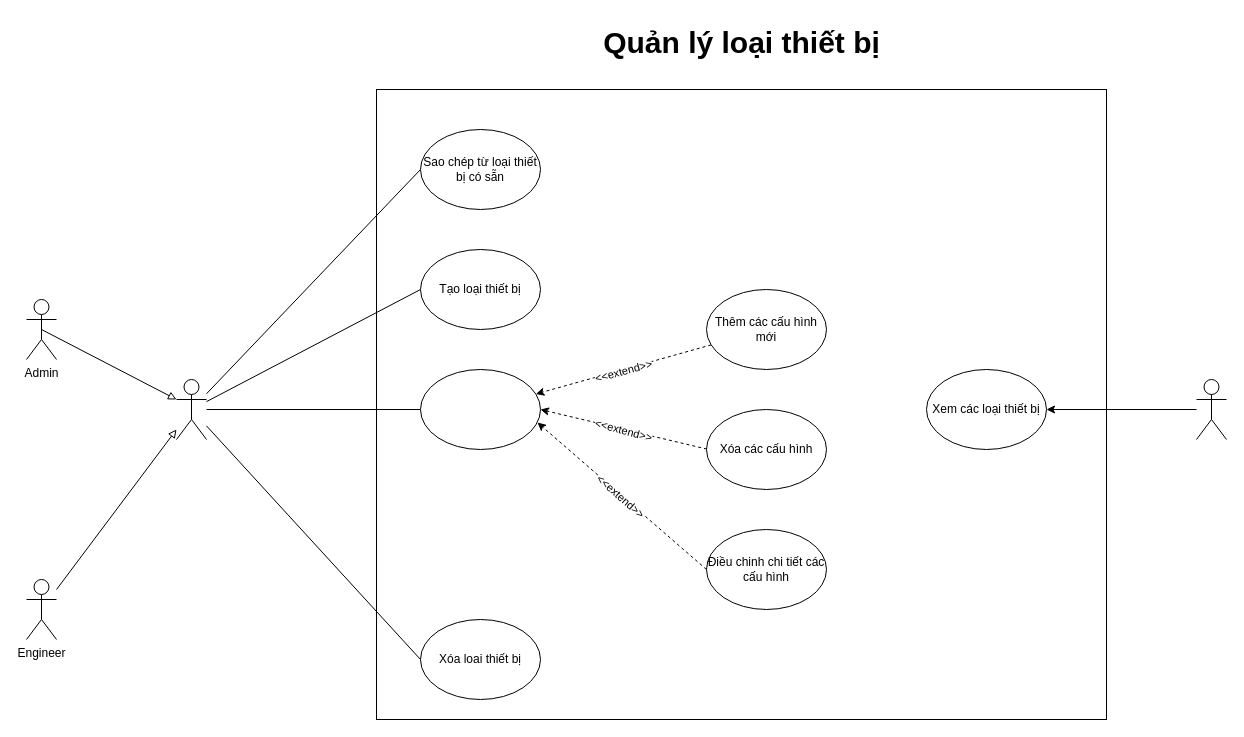
Some shapes in this 1244 by 737 pixel diagram are drawn without their labels. Each missing label, with the centre of its shape:
Chỉnh sửa loại thiết bị: the point at 480,409
Device Type Manager: the point at 191,409
User: the point at 1211,409
